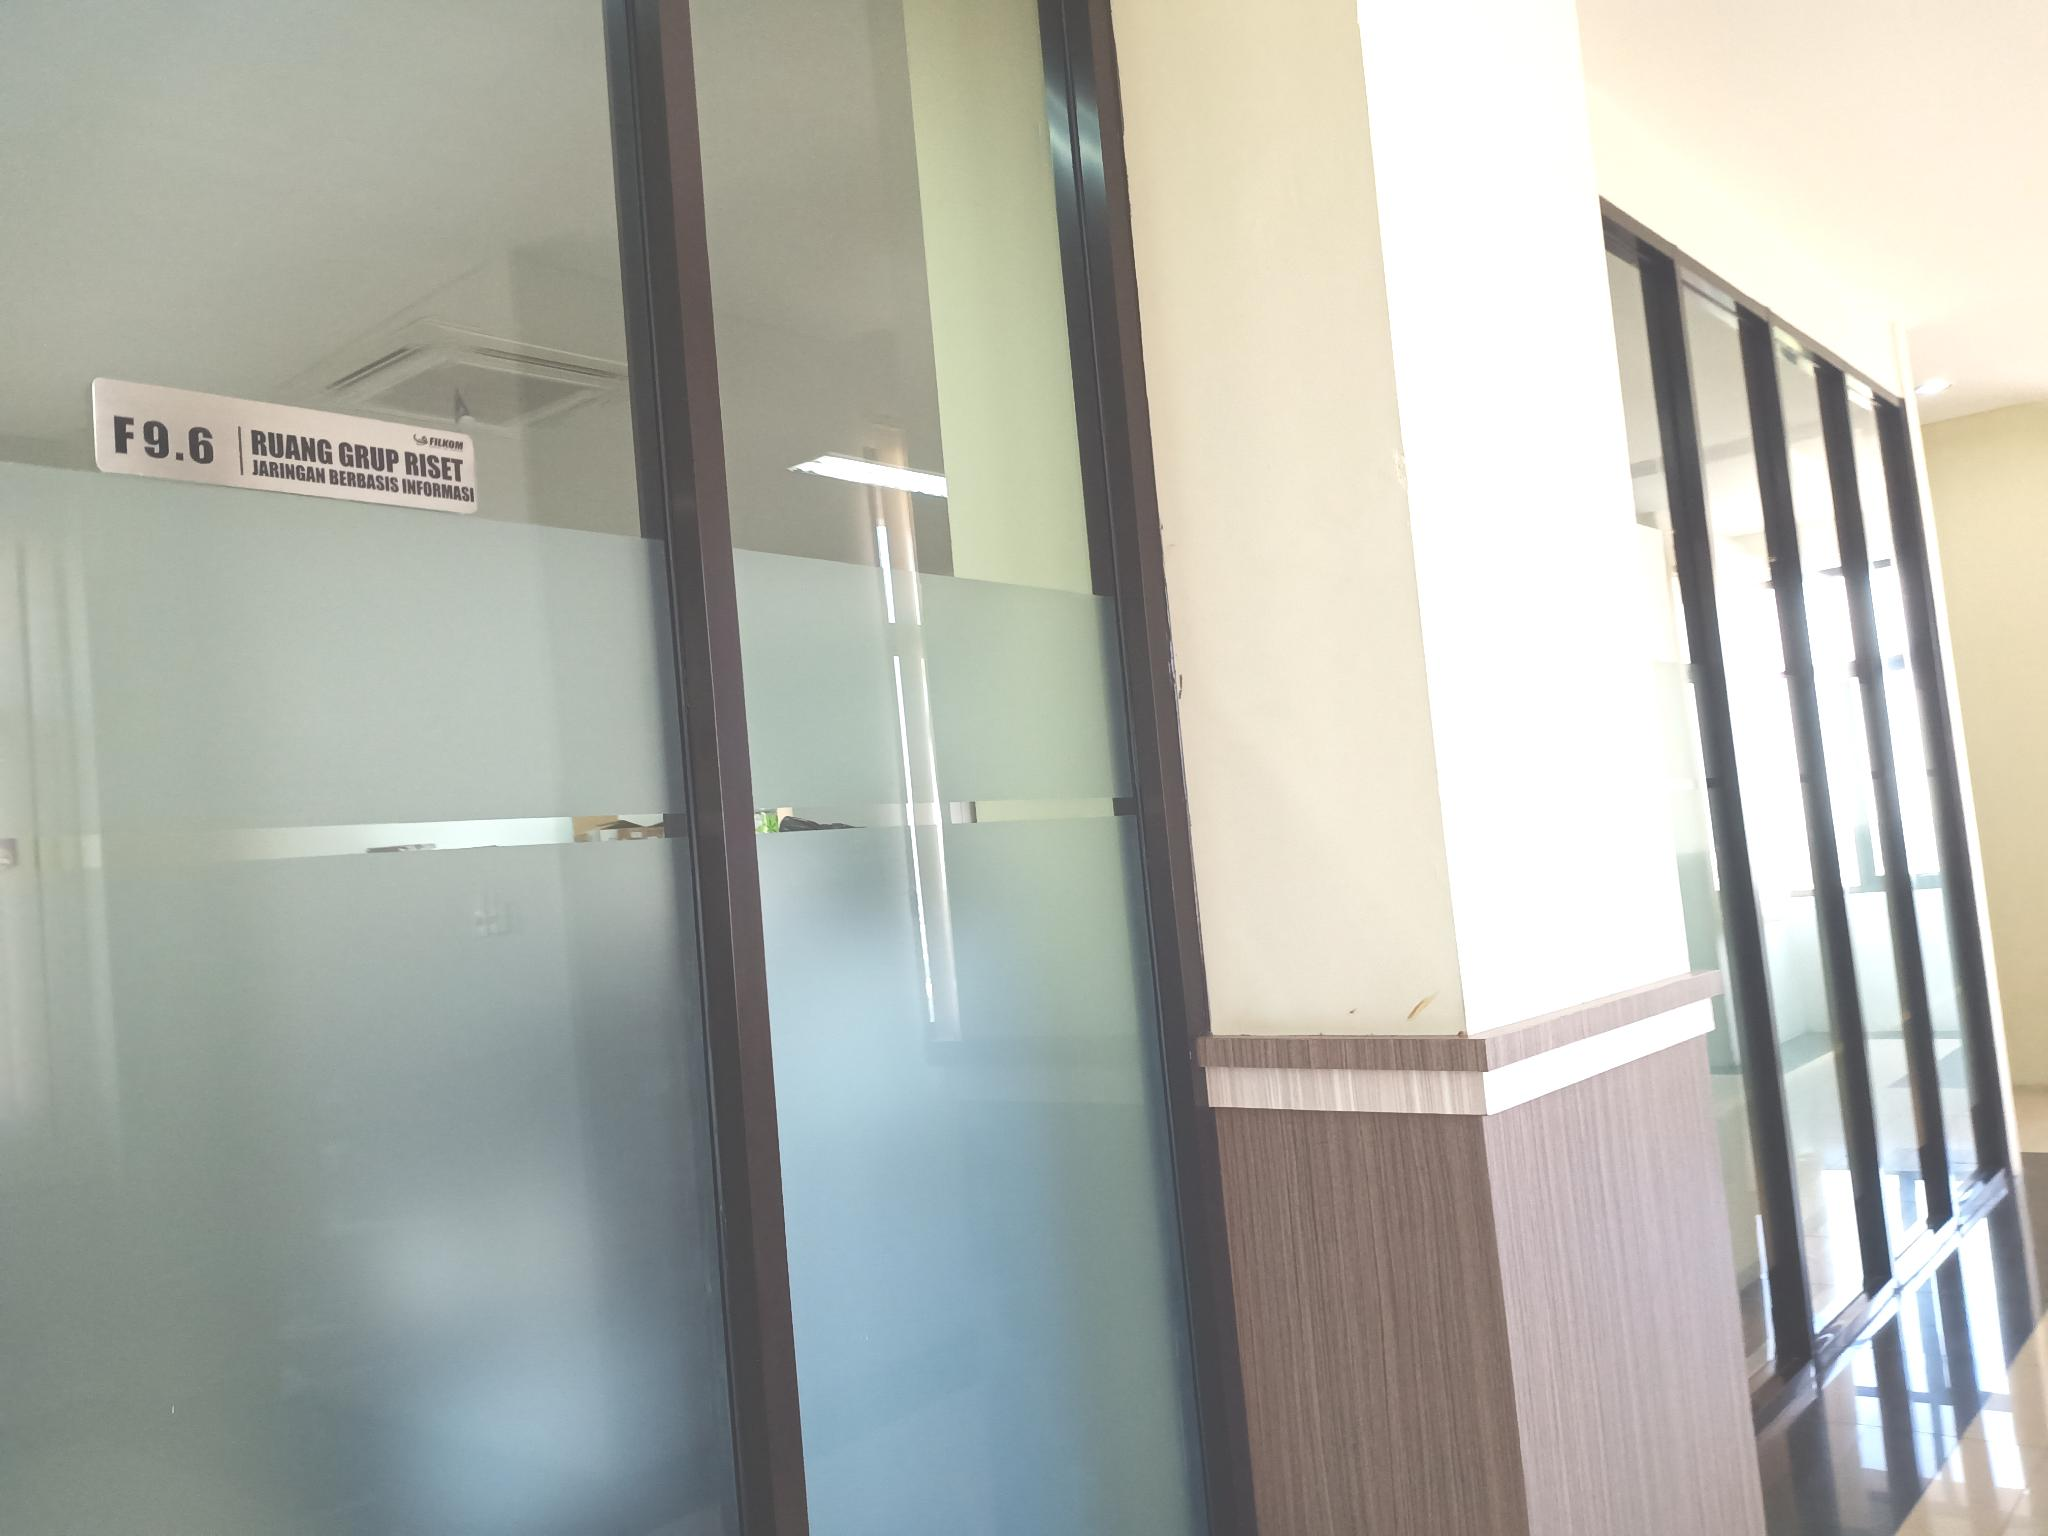plate: (92, 374, 479, 518)
